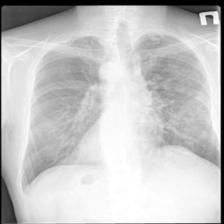tuberculosis: (18, 29, 220, 197)
